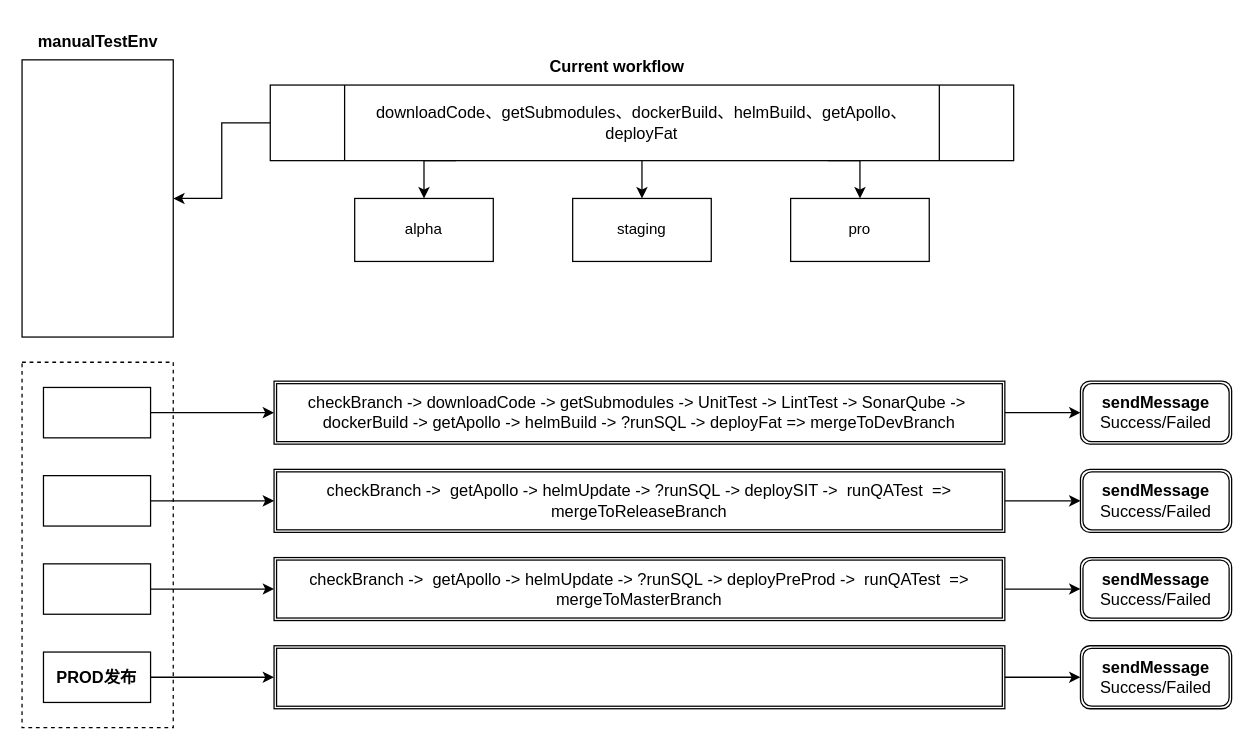
Some shapes in this 1254 by 750 pixel diagram are drawn without their labels. The shapes that lost their labels are listed below. From the top down, each one's centre as x and y in pixels, then its label:
At (x=97, y=198): "DEV test5 test11 test12 test13 。 。 。".
At (x=96, y=412): "FAT发布".
At (x=96, y=500): "SIT发布".
At (x=96, y=588): "PreProd发布".
At (x=639, y=676): "checkBranch -> getApollo -> helmUpdate -> ?runSQL -> deployProd => manualTest".
